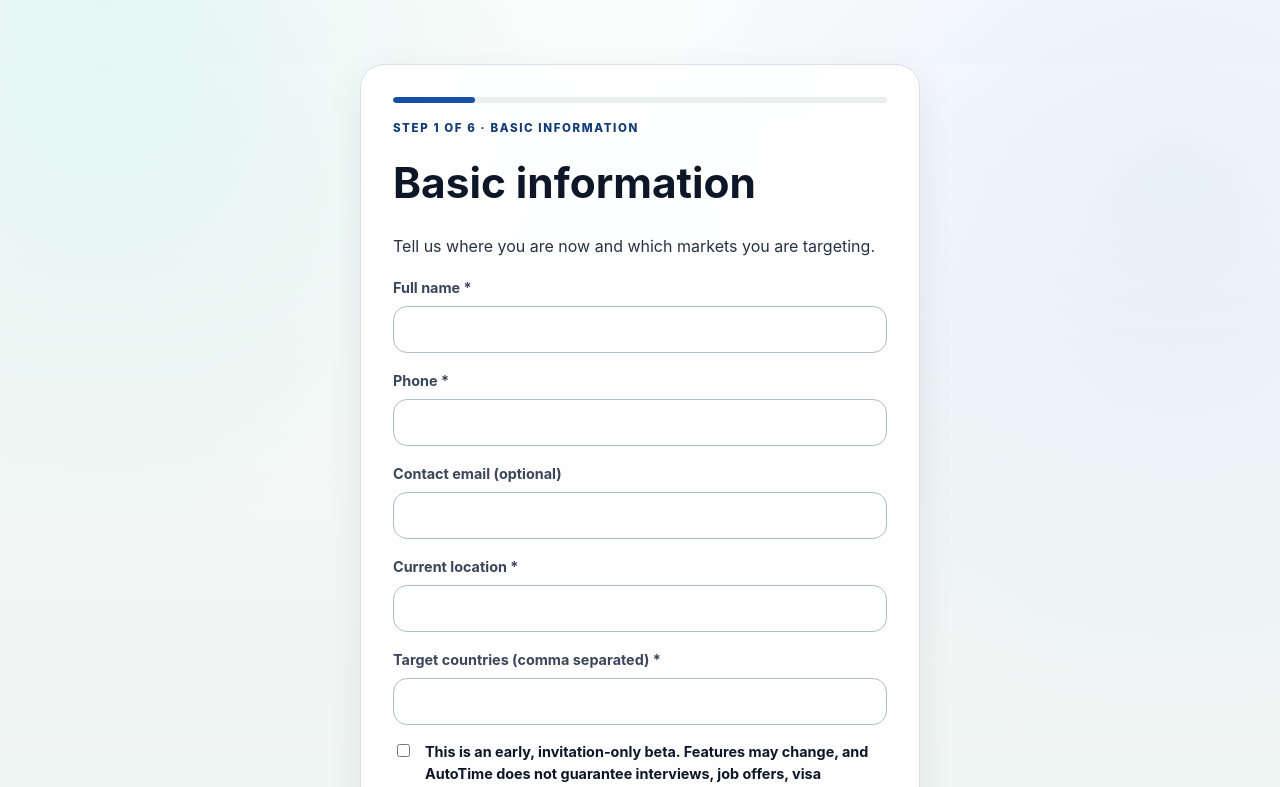
Test: OnboardingWizard - step 0 (basic information + beta terms) › advances to step 1 once every step-0 field, including beta terms, is valid
Type "Jane Doe" into the field labelled "Full name *".
click(640, 330); type("Jane Doe")  # box [393,306,887,353]
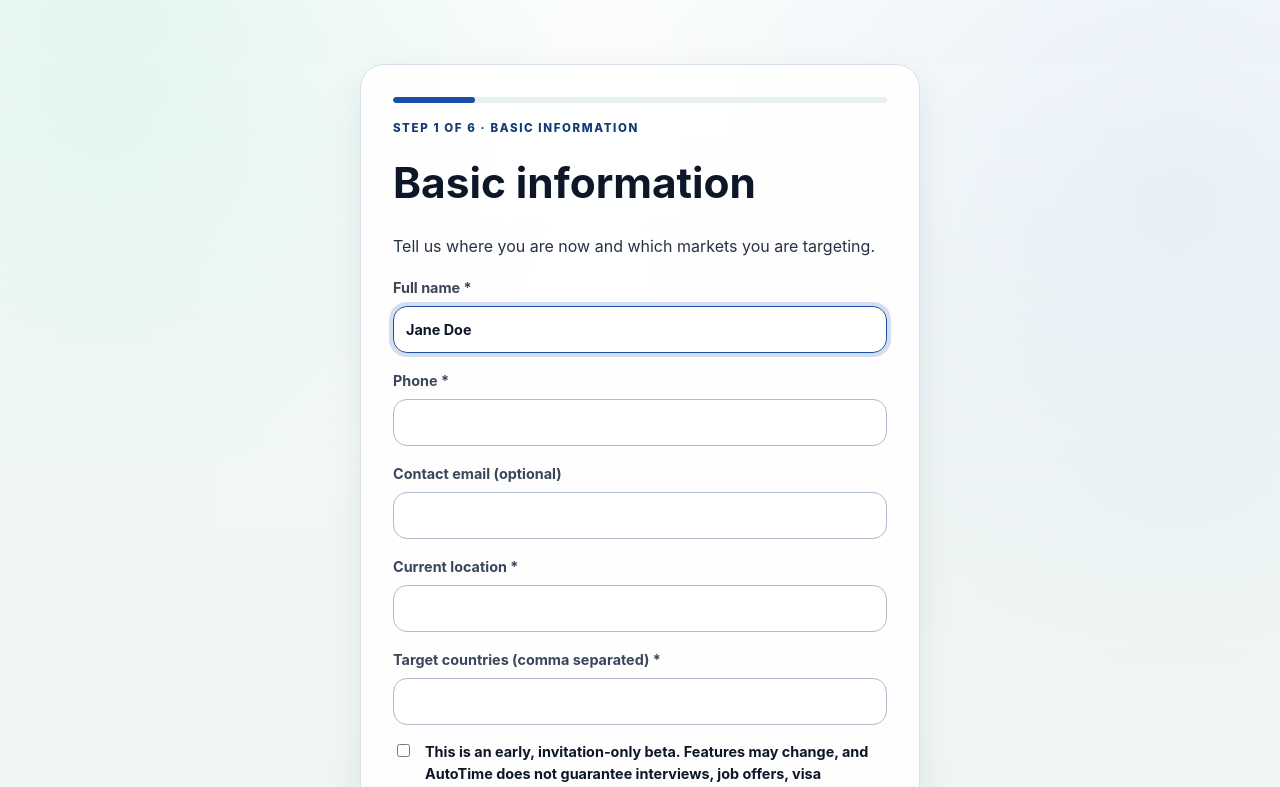
Type "+44 7700 900000" into the field labelled "Phone *".
click(640, 423); type("+44 7700 900000")  # box [393,399,887,446]
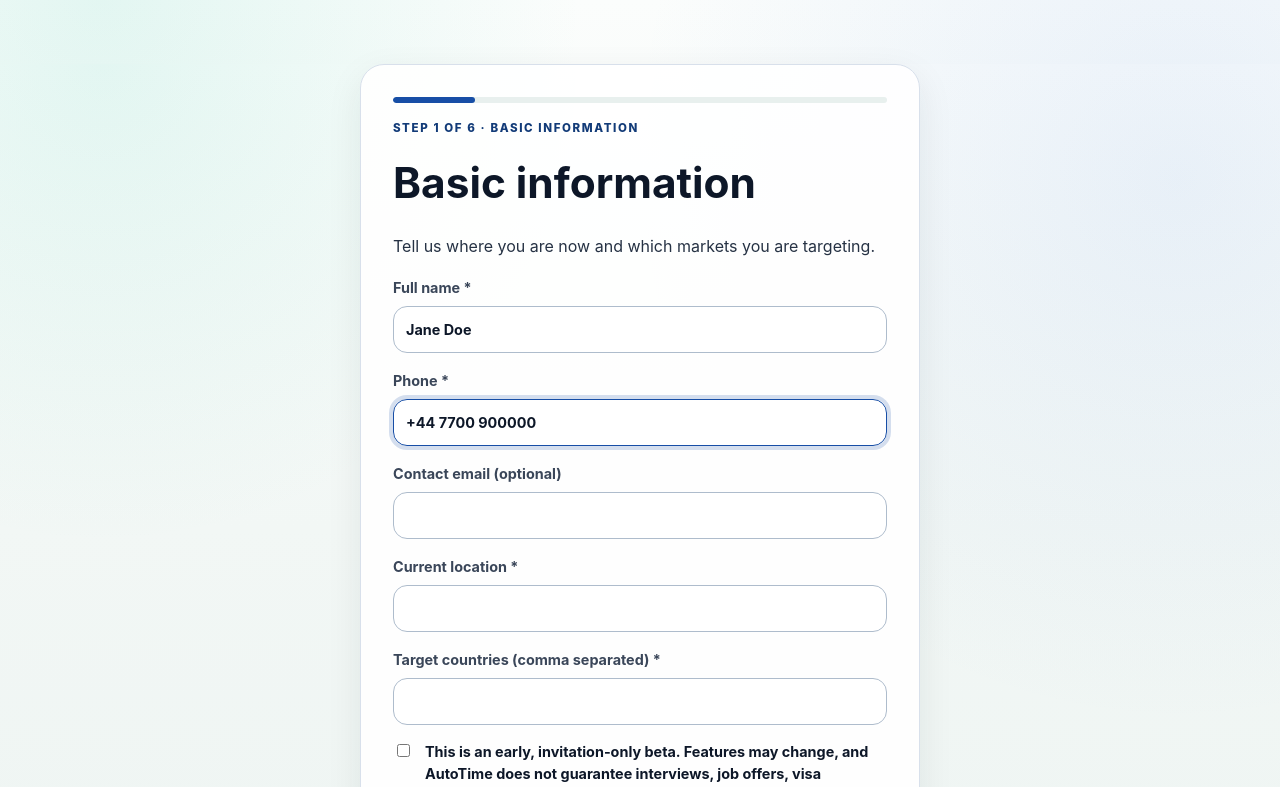
Type "London" into the field labelled "Current location *".
click(640, 609); type("London")  # box [393,585,887,632]
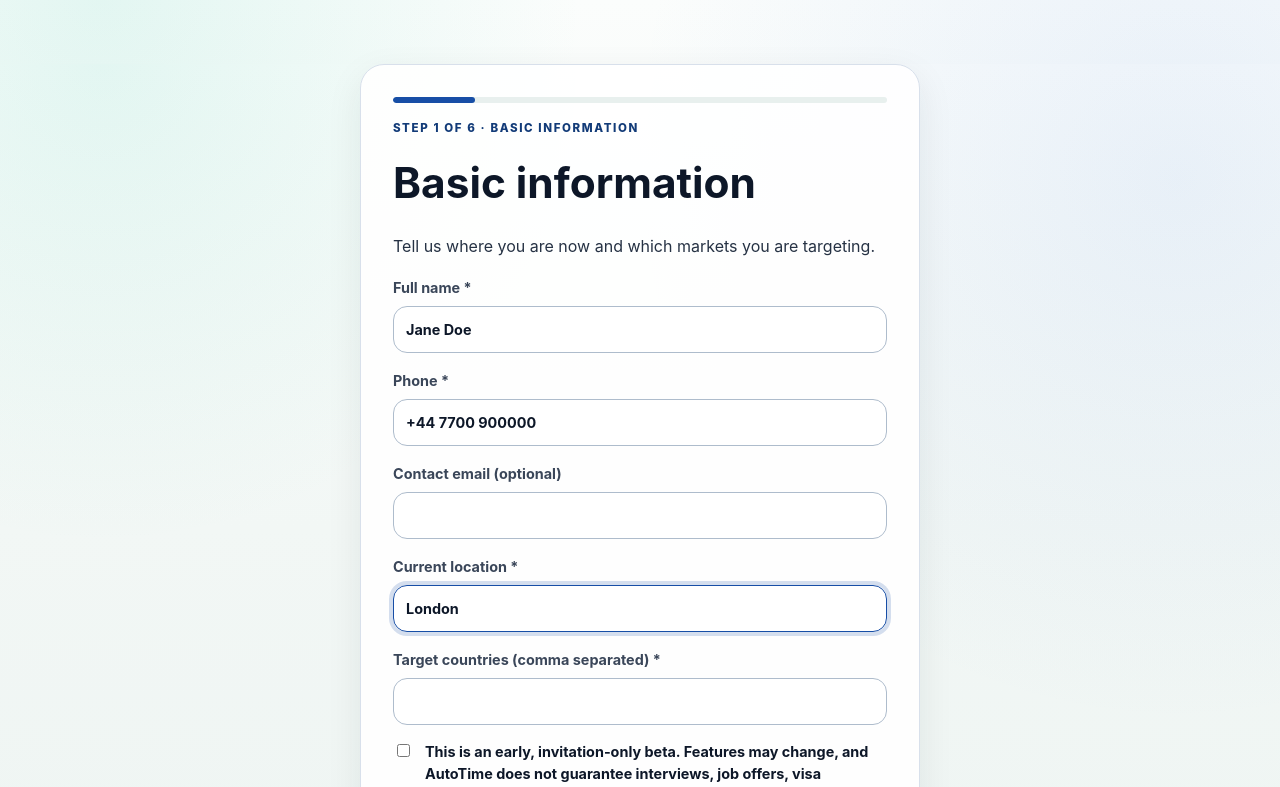
Type "Germany, Ireland" into the field labelled "Target countries (comma separated) *".
click(640, 702); type("Germany, Ireland")  # box [393,678,887,725]
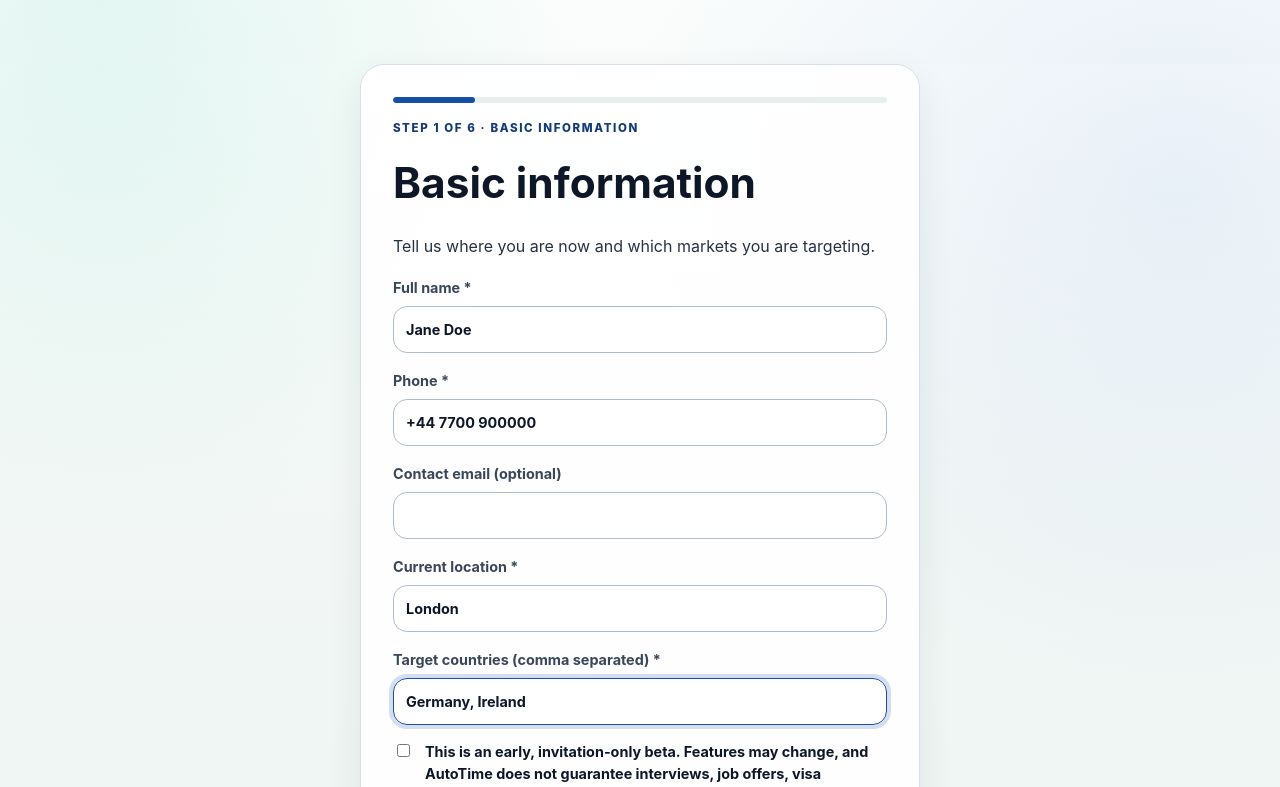
Click the checkbox.
click(404, 751)  # box [397,744,410,757]
(page scrolled)
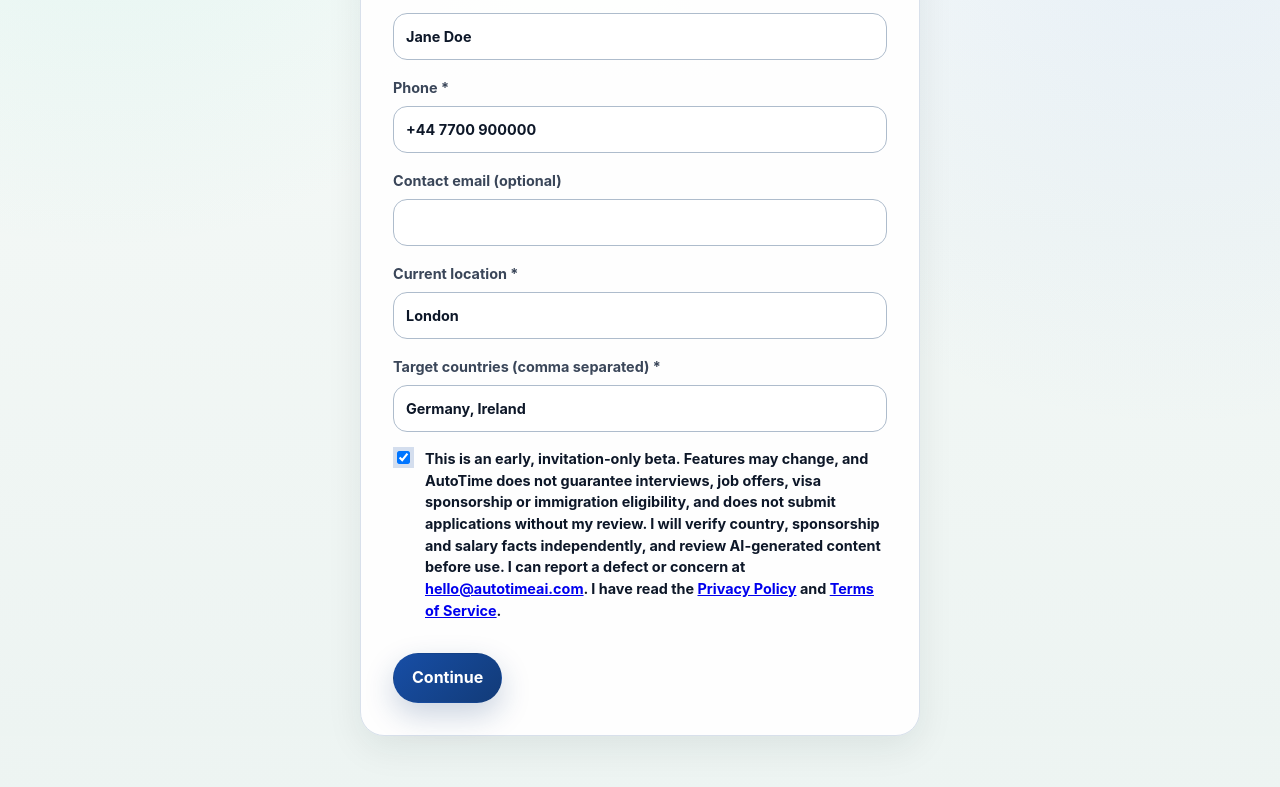
Click the button "Continue".
click(448, 678)  # box [393,653,502,703]
(page scrolled)
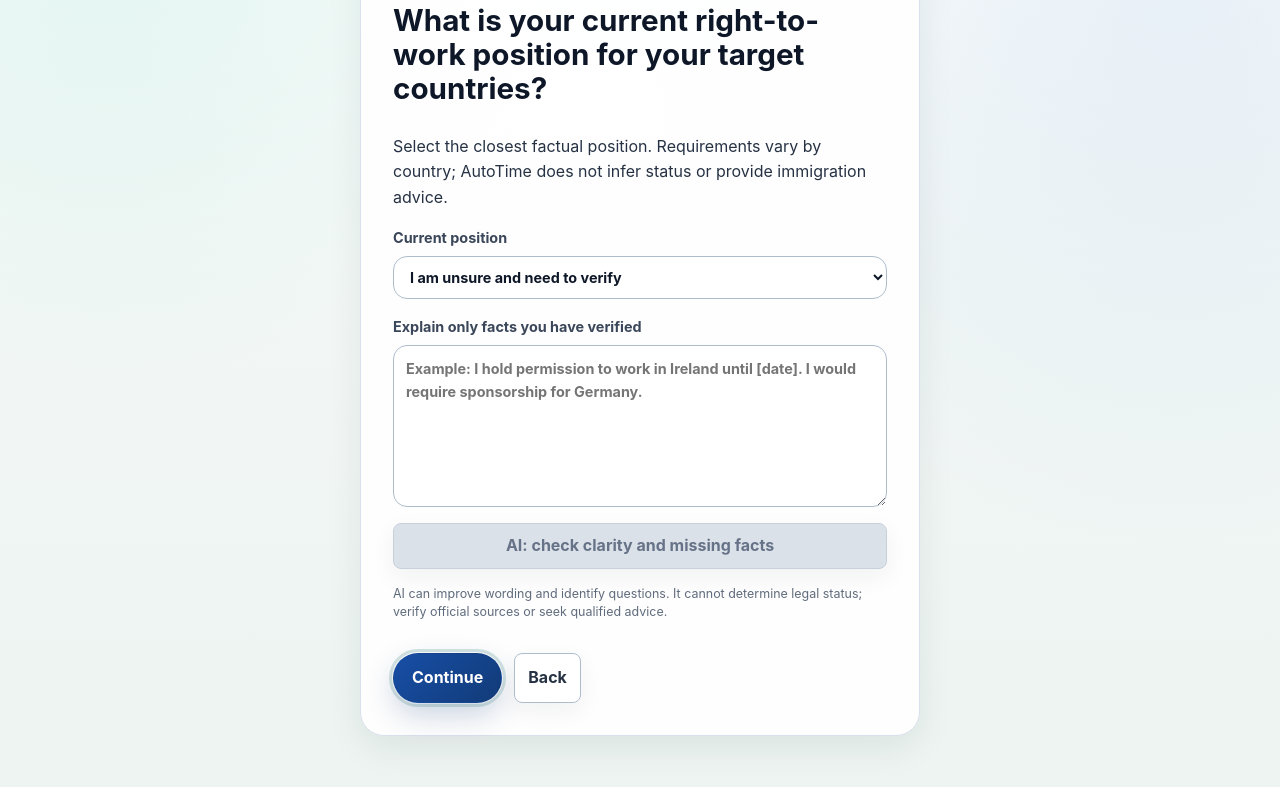
Result: the heading "right-to-work position" is shown at [393,2,819,106]
